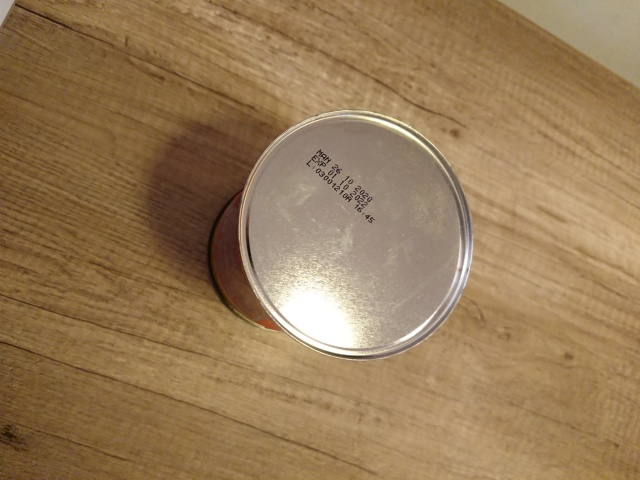Nescafe Classic 225g: (203, 106, 478, 367)
